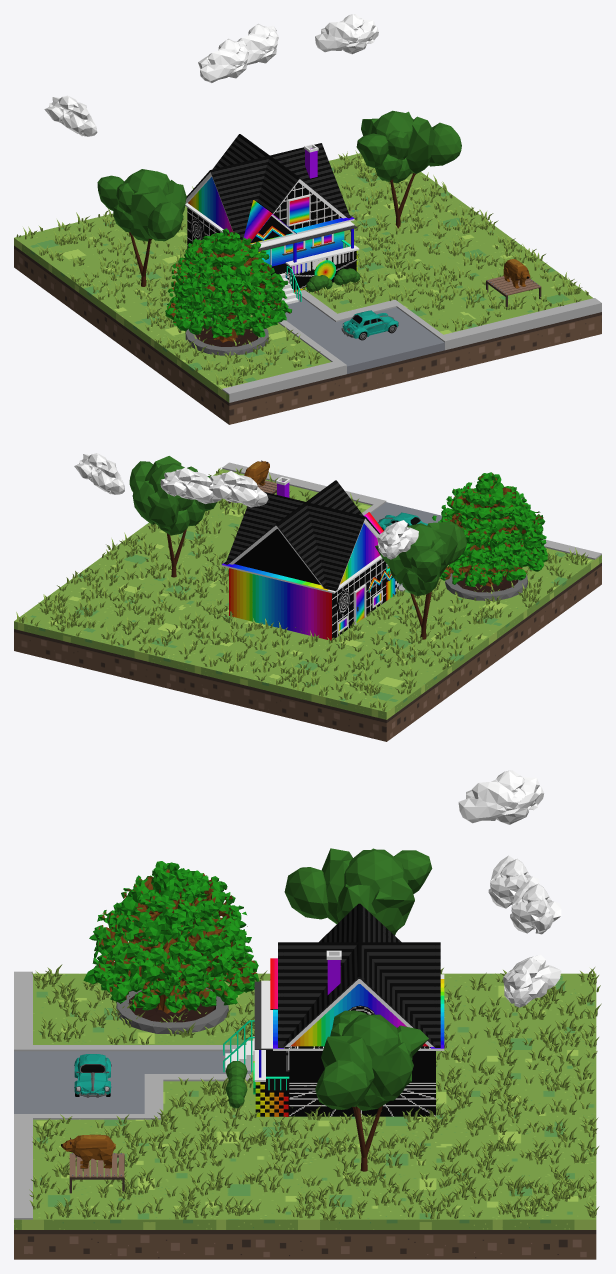
The picture shows the model from 3 angles, top to bottom: view 1: azimuth 30°, elevation 25°; view 2: azimuth 150°, elevation 25°; view 3: azimuth 270°, elevation 25°; orthographic projection. The views are drawn at different scales.
Parts seen in each view (by area): view 1: Cube.006, Cube.1320, Circle.012_Grass_0.192, OBJRANDOM_CEIBA, Cube.007, tree, tree.001, VEHICLES_VOLKSWAGEN, Cube.009, ANIMAL_OSO; view 2: Cube.006, Cube.1320, Circle.012_Grass_0.192, OBJRANDOM_CEIBA, Cube.007, tree.001, tree, ANIMAL_OSO, VEHICLES_VOLKSWAGEN; view 3: Cube.006, Circle.012_Grass_0.192, Cube.1320, OBJRANDOM_CEIBA, tree, Cube.007, tree.001, VEHICLES_VOLKSWAGEN, Cube.009, ANIMAL_OSO.
Boxes of the visible parts, bbox=[...] form: Cube.006: bbox=[14, 153, 601, 424]; Cube.1320: bbox=[185, 134, 359, 304]; Circle.012_Grass_0.192: bbox=[16, 150, 588, 386]; OBJRANDOM_CEIBA: bbox=[165, 228, 291, 355]; Cube.007: bbox=[44, 14, 378, 136]; tree: bbox=[356, 110, 461, 228]; tree.001: bbox=[97, 169, 186, 286]; VEHICLES_VOLKSWAGEN: bbox=[341, 310, 398, 340]; Cube.009: bbox=[486, 276, 541, 306]; ANIMAL_OSO: bbox=[503, 259, 530, 288]; Cube.006: bbox=[14, 462, 601, 741]; Cube.1320: bbox=[221, 477, 398, 640]; Circle.012_Grass_0.192: bbox=[16, 468, 588, 711]; OBJRANDOM_CEIBA: bbox=[432, 472, 547, 600]; Cube.007: bbox=[74, 453, 418, 559]; tree.001: bbox=[375, 521, 467, 639]; tree: bbox=[129, 456, 216, 577]; ANIMAL_OSO: bbox=[244, 460, 269, 485]; VEHICLES_VOLKSWAGEN: bbox=[377, 512, 427, 530]; Cube.006: bbox=[14, 971, 596, 1259]; Circle.012_Grass_0.192: bbox=[29, 964, 601, 1220]; Cube.1320: bbox=[223, 903, 444, 1116]; OBJRANDOM_CEIBA: bbox=[83, 861, 258, 1034]; tree: bbox=[315, 1010, 428, 1171]; Cube.007: bbox=[458, 770, 561, 1007]; tree.001: bbox=[284, 848, 432, 935]; VEHICLES_VOLKSWAGEN: bbox=[74, 1054, 111, 1097]; Cube.009: bbox=[69, 1153, 124, 1193]; ANIMAL_OSO: bbox=[61, 1134, 115, 1168].
Bounding box in the file's own units: 4071 × 2179 × 4040.
Materials: 31 (5 with a texture image).
